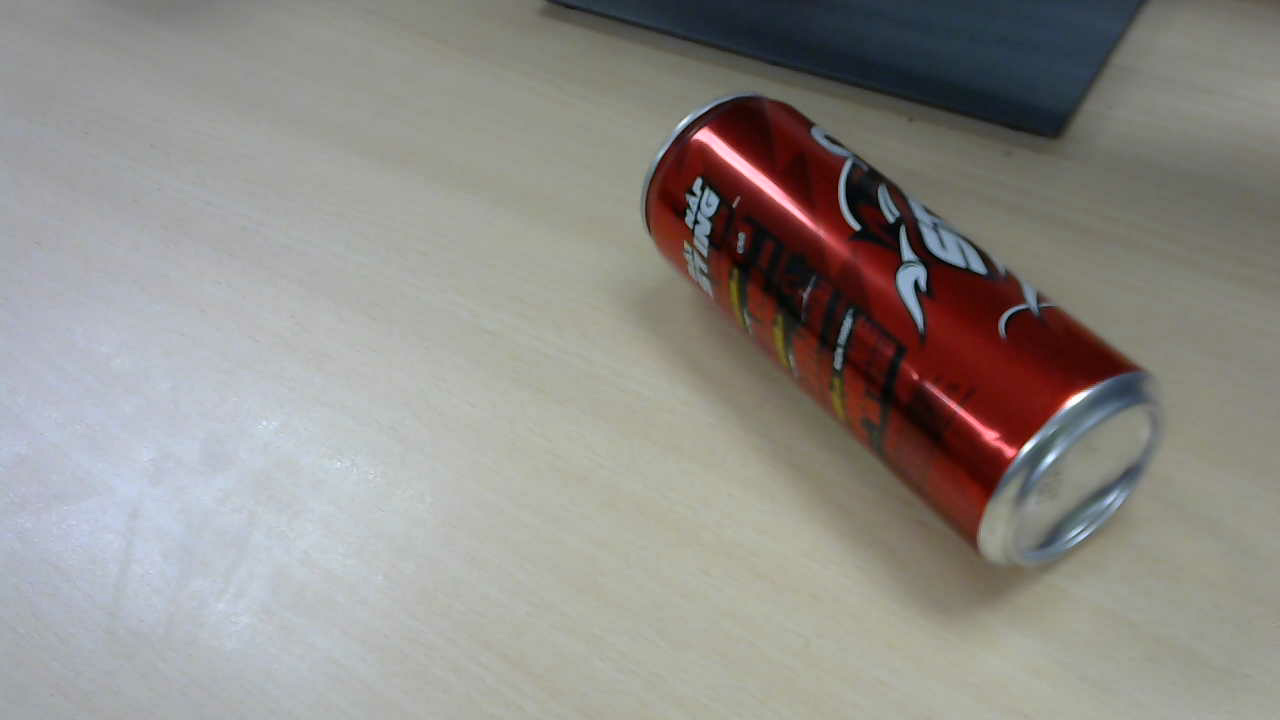Sting: (649, 88, 1173, 580)
